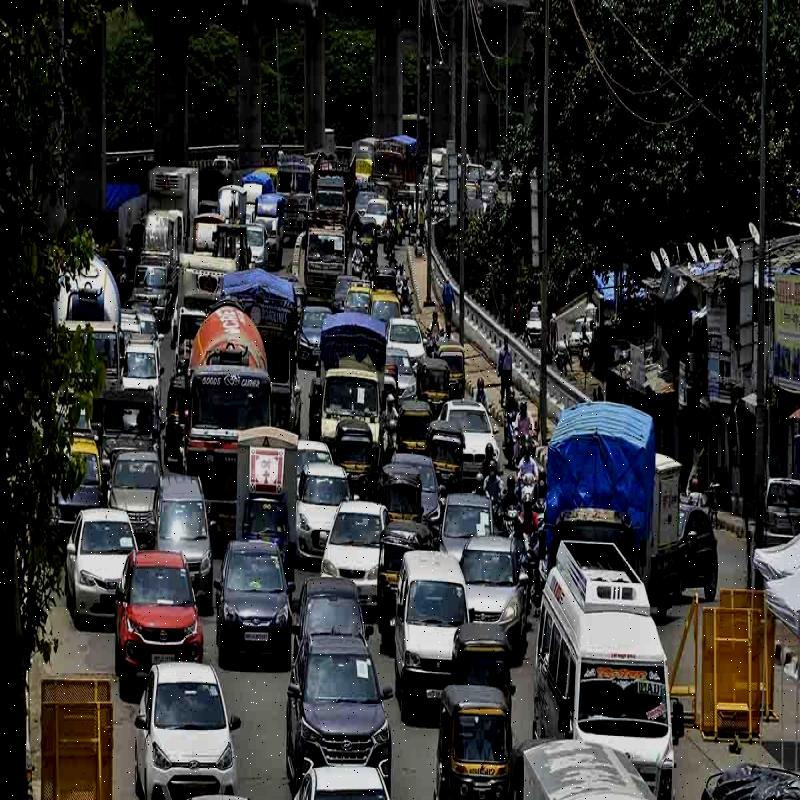auto: (436, 699, 512, 800), (450, 626, 518, 702), (382, 451, 420, 531), (430, 424, 467, 492), (399, 396, 436, 460)
car: (537, 552, 672, 783), (293, 609, 392, 763), (138, 662, 231, 796), (114, 546, 202, 659), (220, 528, 293, 645), (403, 556, 466, 690), (61, 499, 129, 616), (161, 466, 218, 578), (329, 490, 386, 581), (294, 460, 344, 552), (113, 449, 165, 533), (445, 477, 493, 563), (448, 394, 498, 472)
